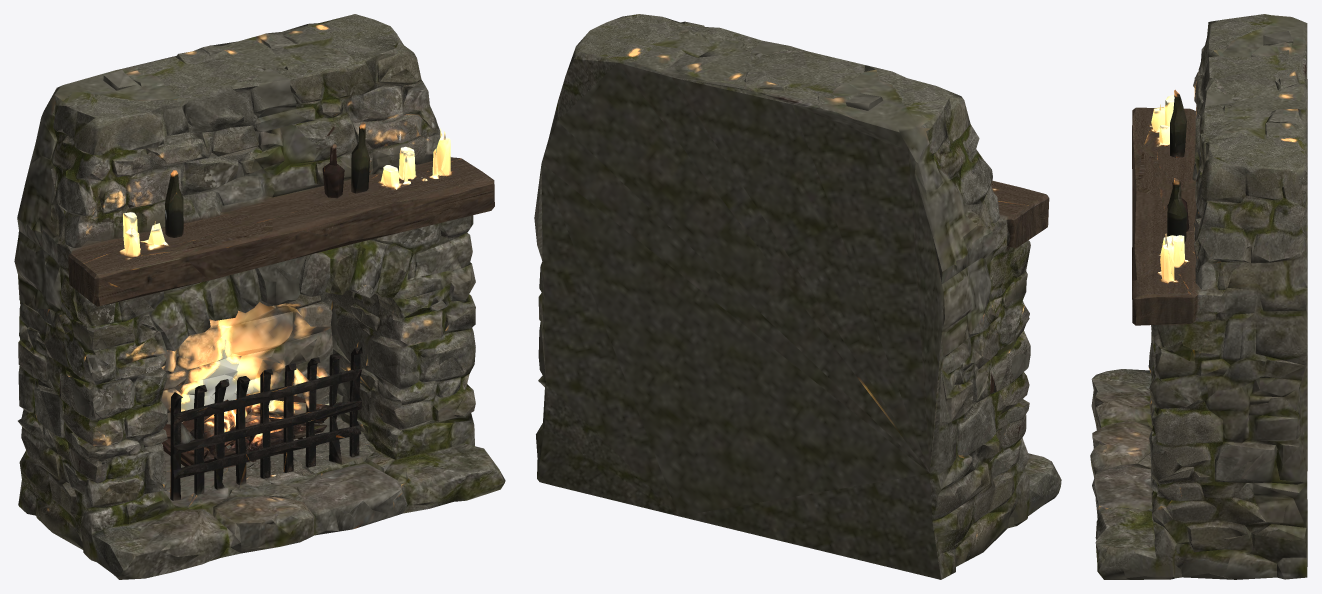
The model's file is fp_meshopt.glb.
The picture shows the model from 3 angles, left to right: view 1: azimuth 30°, elevation 25°; view 2: azimuth 150°, elevation 25°; view 3: azimuth 270°, elevation 25°; orthographic projection. The views are drawn at different scales.
Parts seen in each view (by area): view 1: Mesh_0; view 2: Mesh_0; view 3: Mesh_0.
Part boxes in pixels (x1,y1,x2,y2): Mesh_0: (14, 14, 505, 579); Mesh_0: (534, 14, 1061, 579); Mesh_0: (1090, 14, 1307, 579).
Size of the model in its own units: 1.9 by 1.9 by 0.919.
1 material, 1 textured.
